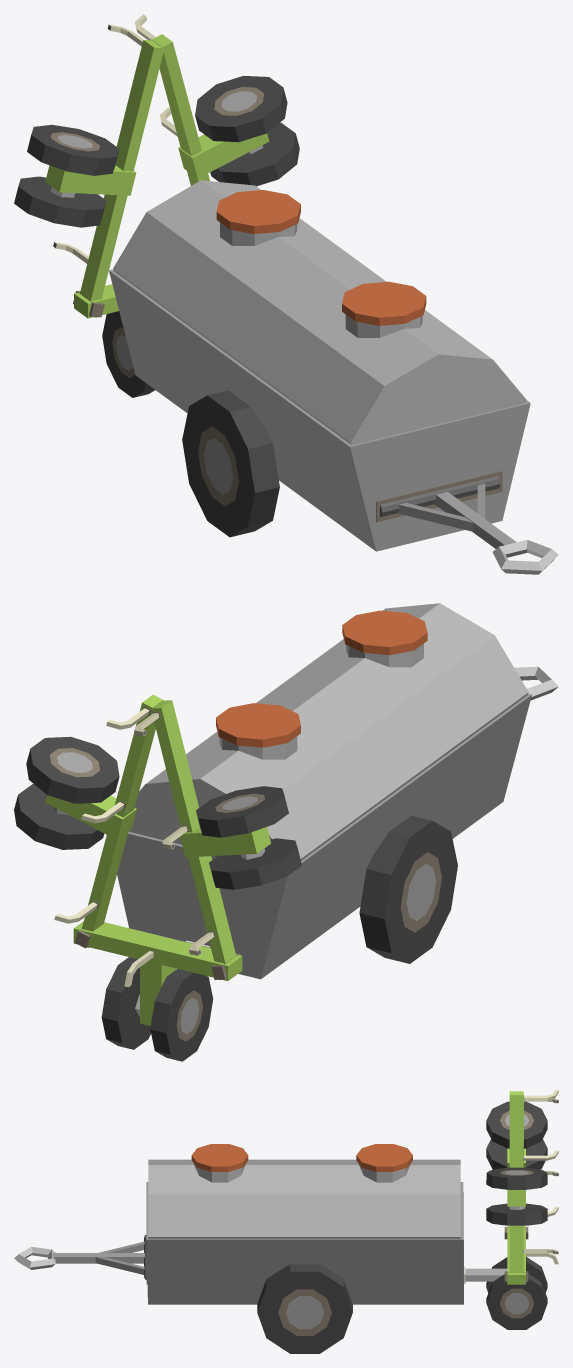
File: trailer.fbx
3 views of the same model, one above another, from view 1: azimuth 30°, elevation 25°; view 2: azimuth 150°, elevation 25°; view 3: azimuth 270°, elevation 25° (orthographic). The views are drawn at different scales.
Visible parts, largest first — view 1: Cylinder_1, Cylinder_3, Cube_9, Cylinder_1_3, Cylinder_1_2, Cylinder_5, Cube_10, Cylinder_5_2; view 2: Cylinder_1, Cylinder_3, Cube_9, Cylinder_1_3, Cylinder_5_2, Cube_10, Cylinder_1_2, Cylinder_5; view 3: Cylinder_1, Cylinder_3, Cylinder_5_2, Cylinder_1_2, Cube_10, Cylinder_1_3, Cylinder_5, Cube_9.
Boxes of the visible parts, x1,y1,x2,y2 form: Cylinder_1: (74, 180, 530, 551); Cylinder_3: (182, 390, 279, 537); Cube_9: (45, 24, 164, 317); Cylinder_1_3: (195, 75, 299, 186); Cylinder_1_2: (14, 124, 119, 227); Cylinder_5: (380, 476, 558, 574); Cube_10: (135, 14, 269, 185); Cylinder_5_2: (102, 311, 154, 397); Cylinder_1: (73, 603, 531, 1025); Cylinder_3: (359, 815, 457, 963); Cube_9: (134, 700, 271, 979); Cylinder_1_3: (14, 736, 119, 849); Cylinder_5_2: (101, 957, 213, 1061); Cube_10: (45, 694, 163, 948); Cylinder_1_2: (196, 786, 301, 889); Cylinder_5: (514, 666, 558, 700); Cylinder_1: (146, 1144, 558, 1304); Cylinder_3: (257, 1264, 352, 1353); Cylinder_5_2: (486, 1256, 547, 1329); Cylinder_1_2: (486, 1101, 547, 1169); Cube_10: (504, 1095, 558, 1281); Cylinder_1_3: (486, 1167, 547, 1225); Cylinder_5: (14, 1235, 146, 1280); Cube_9: (504, 1090, 558, 1239).
Bounding box in the file's own units: 249 × 304 × 660.
